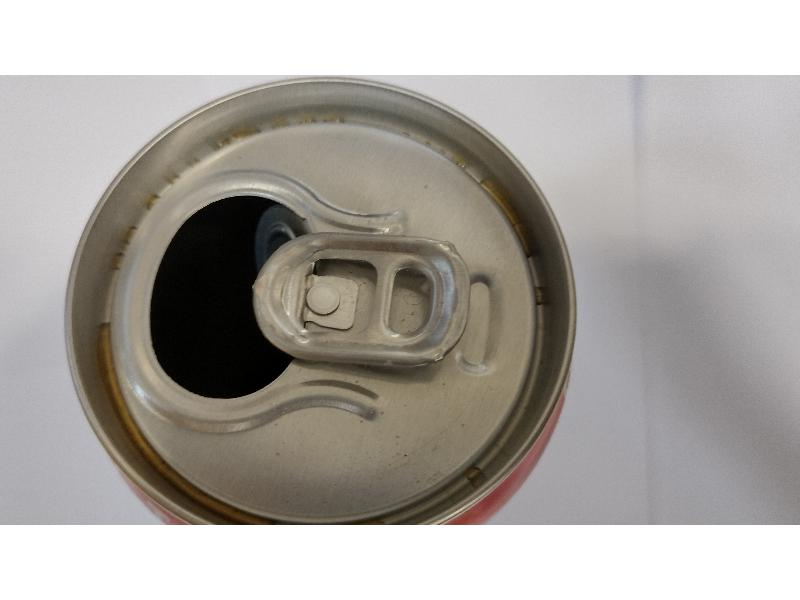can: (63, 77, 587, 524)
